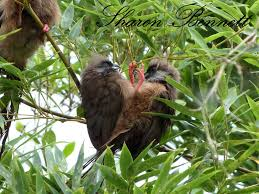target: (69, 46, 191, 153)
